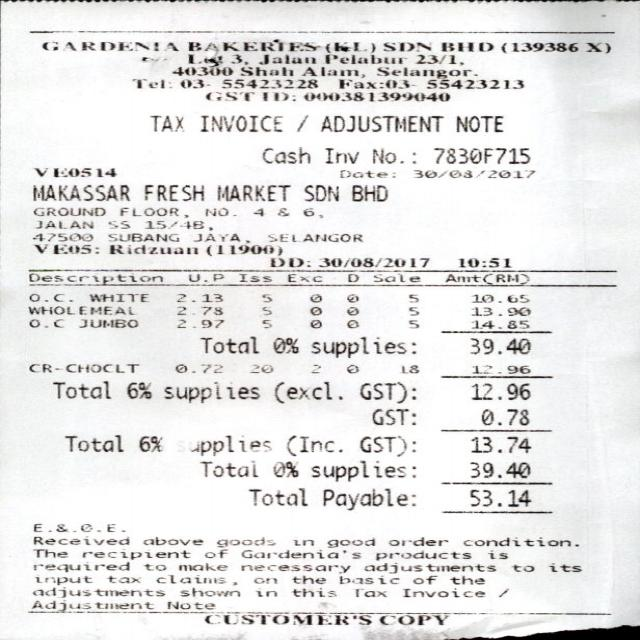text: (308, 459, 412, 480), (308, 336, 412, 356), (319, 487, 412, 509), (160, 381, 257, 402), (318, 114, 439, 130), (202, 614, 368, 624), (430, 145, 527, 162), (31, 183, 128, 200), (187, 434, 267, 454), (28, 272, 161, 284), (362, 561, 494, 572), (30, 585, 162, 596), (270, 381, 339, 402), (303, 91, 449, 100), (187, 41, 315, 51), (198, 114, 278, 130), (215, 183, 287, 200), (39, 40, 174, 49), (358, 381, 412, 402), (358, 435, 412, 456), (373, 66, 475, 77), (248, 486, 306, 505), (284, 434, 338, 454), (468, 488, 530, 505), (241, 549, 358, 558), (81, 548, 186, 558), (469, 434, 530, 451), (462, 536, 577, 545), (26, 362, 136, 371), (144, 183, 202, 200), (198, 335, 256, 352), (64, 434, 122, 451), (467, 460, 528, 476), (30, 600, 152, 608), (372, 550, 469, 560), (50, 380, 107, 397), (471, 382, 528, 399), (423, 78, 519, 88), (412, 168, 531, 176), (26, 305, 131, 314), (198, 460, 256, 476), (467, 338, 528, 353), (316, 258, 426, 266), (30, 561, 127, 570), (220, 78, 316, 87), (239, 563, 346, 571), (442, 273, 526, 283), (498, 41, 574, 52), (30, 166, 113, 176), (206, 244, 280, 255), (324, 53, 405, 63), (152, 574, 232, 584), (30, 536, 127, 544), (260, 146, 308, 162), (479, 408, 526, 424), (266, 232, 359, 240), (400, 587, 482, 596), (335, 78, 406, 88), (455, 114, 499, 130), (107, 244, 195, 252), (368, 408, 412, 424), (379, 614, 447, 624), (117, 206, 184, 216), (142, 219, 209, 229), (32, 207, 104, 216), (299, 66, 363, 76), (31, 243, 95, 253), (33, 523, 123, 530), (255, 53, 312, 64), (169, 65, 231, 75), (370, 148, 411, 163), (215, 536, 273, 546), (412, 52, 460, 64), (106, 232, 177, 240), (351, 183, 384, 200), (34, 574, 90, 584), (384, 535, 446, 544), (322, 40, 372, 51), (302, 183, 334, 200), (323, 146, 356, 162), (178, 586, 236, 595), (471, 363, 528, 372), (148, 114, 180, 130), (191, 233, 246, 242), (141, 536, 202, 544), (438, 41, 491, 50), (238, 66, 290, 75), (457, 257, 509, 266), (32, 232, 90, 240), (86, 292, 144, 300), (34, 219, 90, 227), (204, 91, 252, 100), (172, 363, 220, 372), (124, 380, 148, 398), (380, 41, 427, 50), (173, 305, 220, 314), (324, 537, 371, 546), (468, 294, 526, 301), (76, 318, 134, 325), (468, 319, 526, 326), (336, 575, 394, 582), (177, 318, 222, 327), (270, 336, 295, 352), (270, 460, 295, 476), (471, 306, 528, 313), (186, 53, 222, 64), (289, 587, 332, 596), (338, 169, 392, 176), (173, 292, 220, 300), (166, 600, 213, 608), (136, 434, 159, 450), (266, 258, 308, 266), (176, 562, 224, 569), (369, 273, 416, 280), (546, 562, 580, 571), (261, 91, 294, 100), (291, 574, 324, 583), (130, 78, 162, 87), (582, 41, 607, 52), (176, 78, 206, 87), (187, 273, 222, 280), (447, 575, 482, 582), (354, 588, 384, 596), (286, 273, 319, 280), (26, 318, 59, 325), (31, 548, 64, 555), (239, 273, 270, 280), (300, 206, 320, 216), (104, 576, 137, 582), (202, 207, 225, 215), (248, 364, 271, 372), (229, 53, 245, 64), (105, 219, 127, 227), (202, 548, 224, 556), (410, 575, 434, 582), (140, 562, 162, 569), (509, 563, 531, 570), (27, 292, 46, 300), (343, 292, 357, 302), (252, 576, 274, 582), (252, 589, 274, 595), (295, 114, 303, 130), (398, 364, 414, 372), (345, 318, 357, 328), (291, 538, 311, 544), (486, 552, 506, 558), (52, 293, 69, 300), (306, 292, 320, 300), (309, 305, 320, 314), (274, 207, 286, 215), (249, 207, 261, 215), (345, 363, 355, 372), (495, 588, 506, 596), (308, 363, 317, 372), (309, 319, 320, 326), (345, 306, 355, 313), (260, 292, 268, 300), (406, 306, 415, 313), (406, 319, 415, 326), (346, 273, 354, 280), (260, 306, 268, 313), (259, 319, 267, 326), (406, 294, 415, 300)
